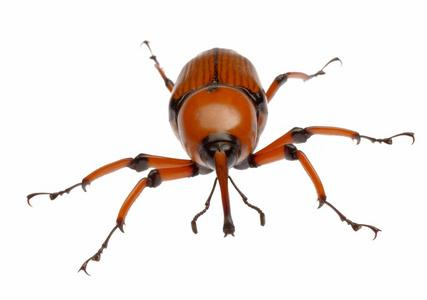Curculionidae: (26, 39, 415, 275)
